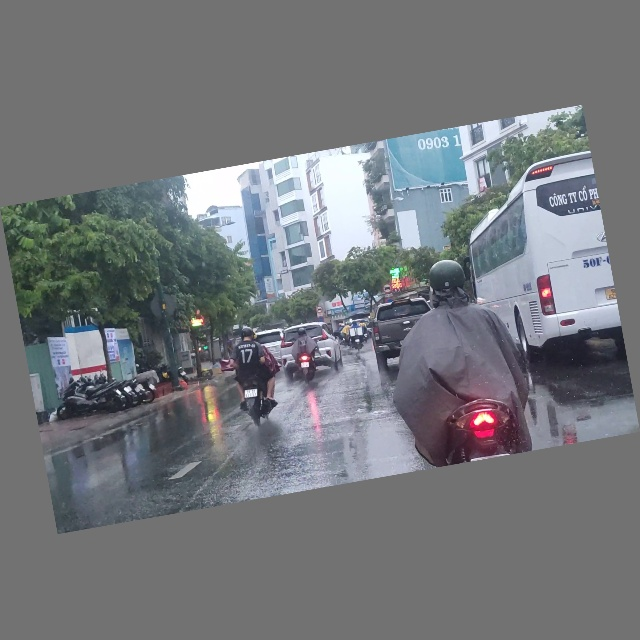P.106a*Xe tai: (382, 283, 393, 295), (315, 306, 323, 314)
P.131a: (317, 316, 324, 323)
